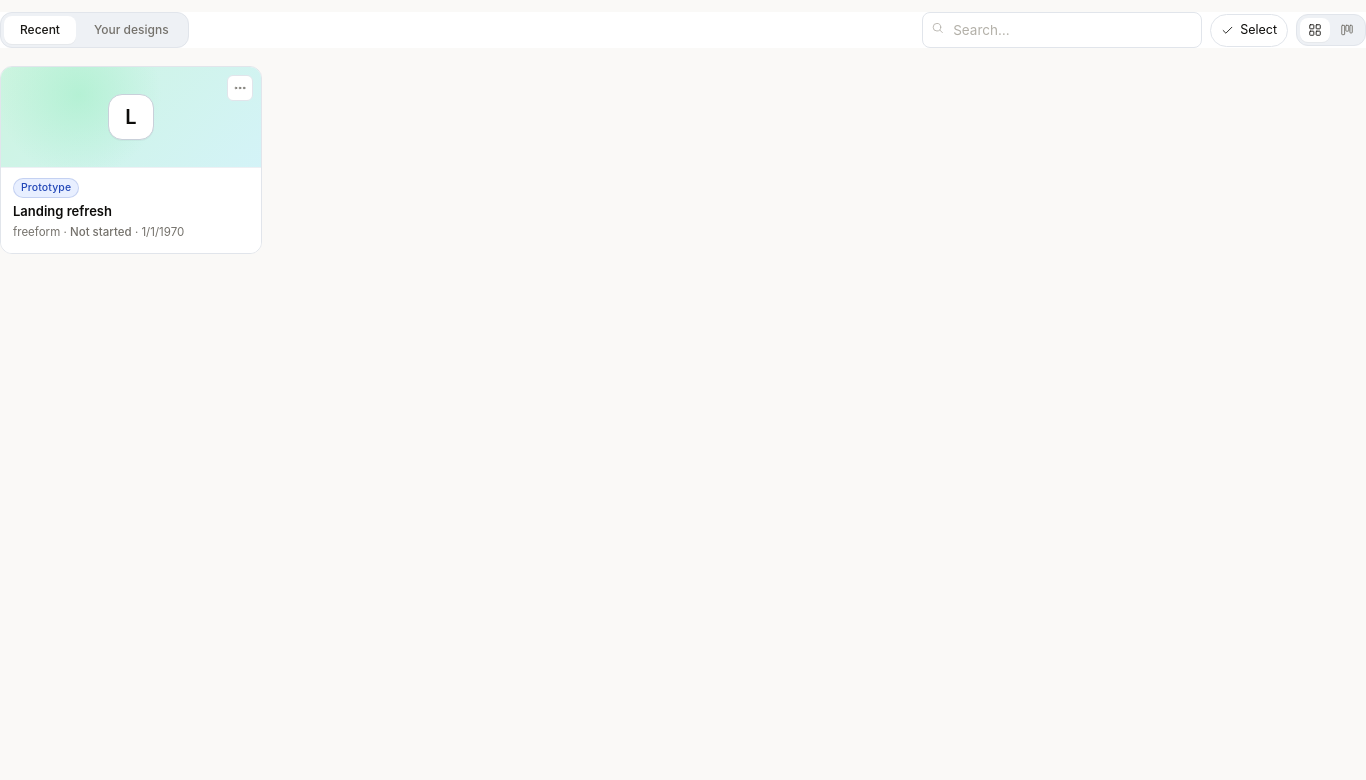
Test case: DesignsTab select mode › exits select mode when switching to kanban view
Click the button "Select" at (1249, 30), box [1210, 14, 1288, 47]
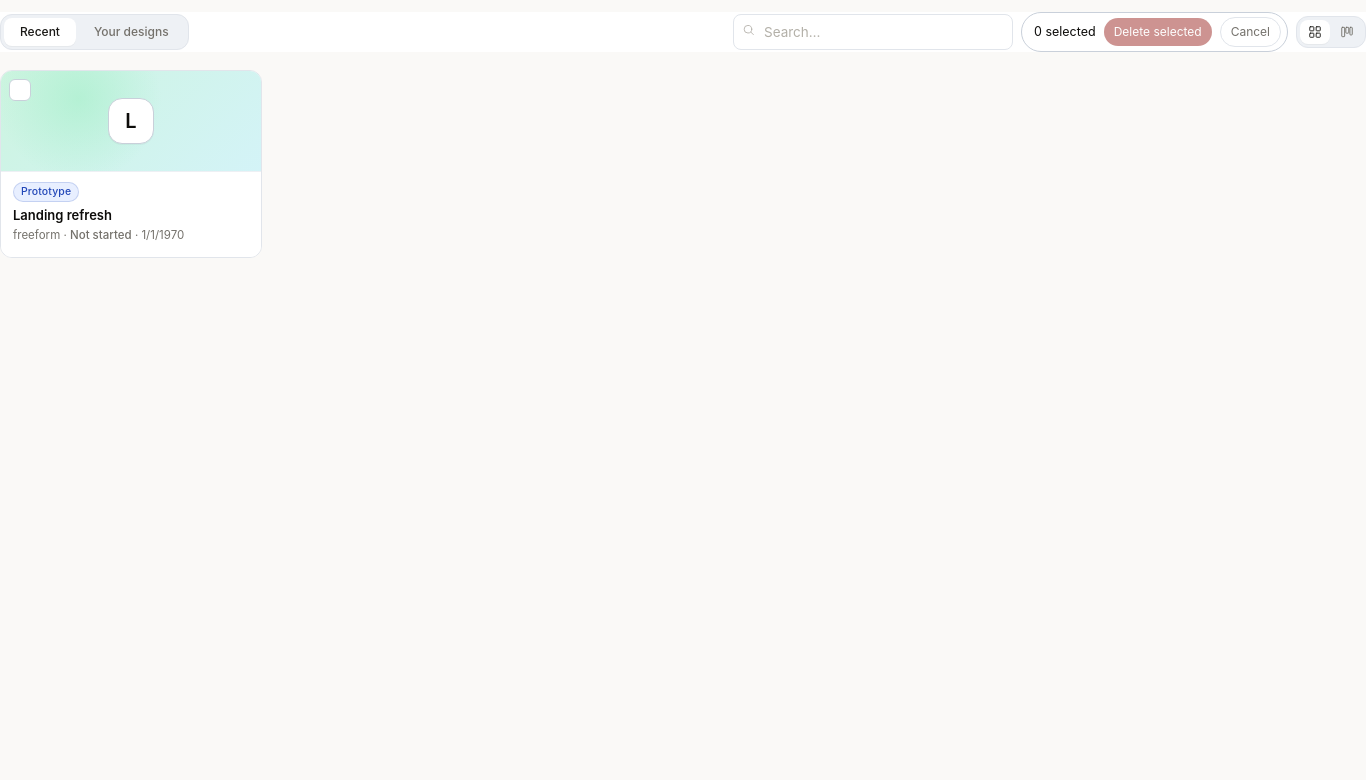
Result: the text "0 selected" is shown at [1034, 23, 1096, 41]
Click the button with test id "designs-view-kanban" at (1347, 32), box [1332, 20, 1362, 44]
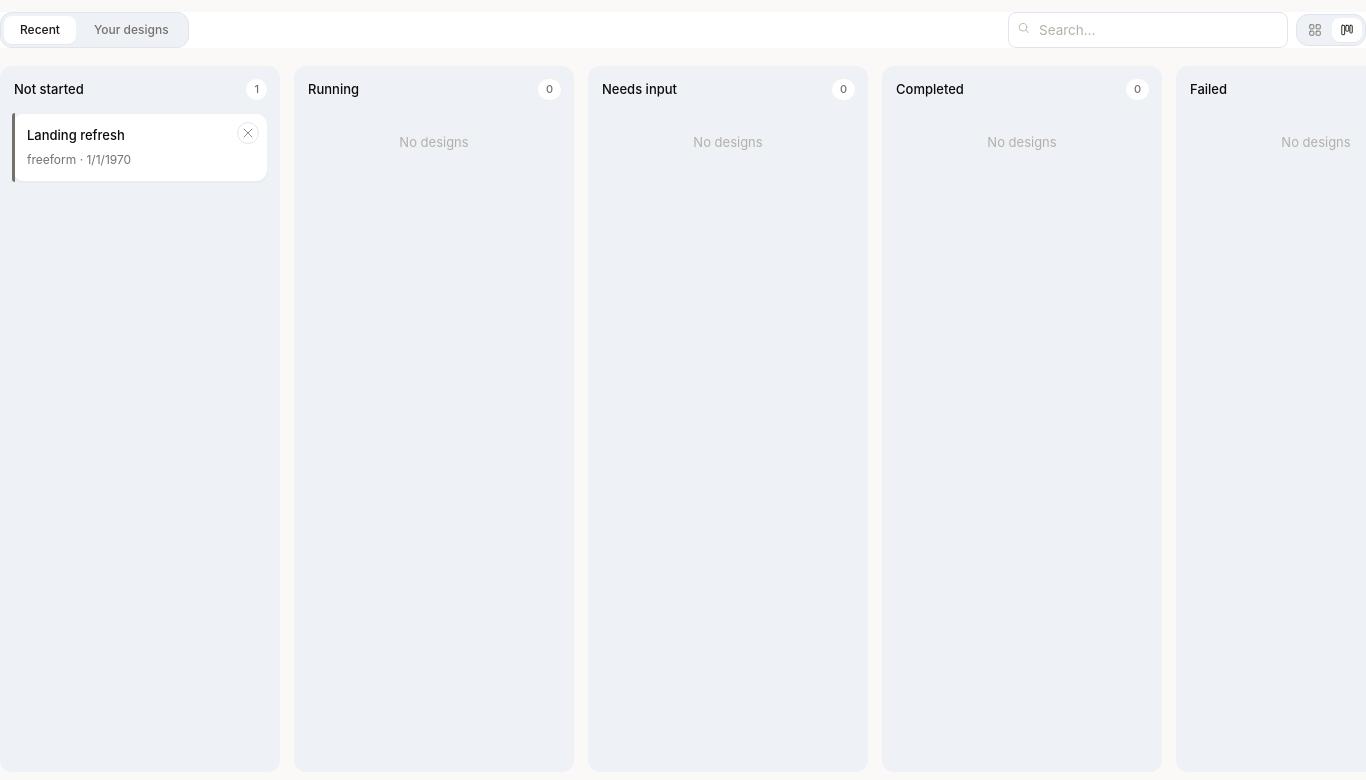
Click the button with test id "designs-view-grid" at (1315, 30), box [1300, 18, 1330, 42]
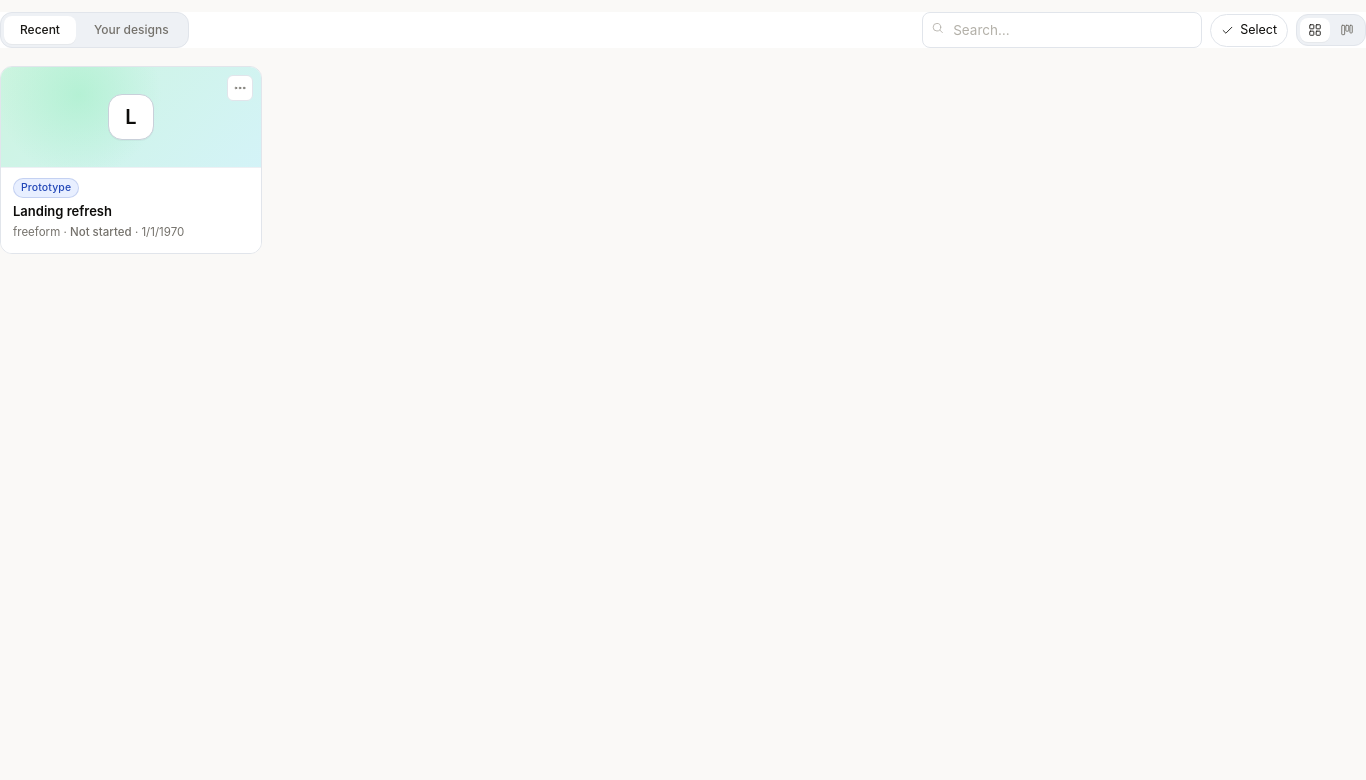
Expected: the text "0 selected" is not shown
Result: the button "Select" is shown at [1210, 14, 1288, 47]
